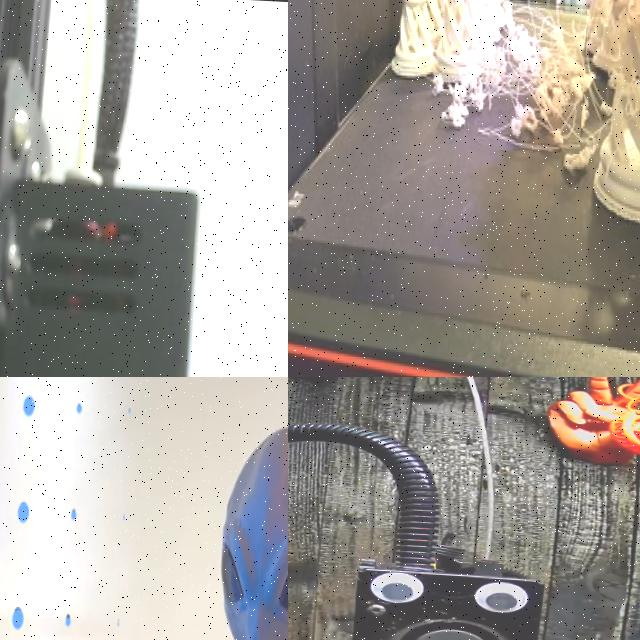spaghetti: (478, 0, 587, 154), (597, 56, 640, 118), (437, 106, 468, 138), (444, 72, 466, 100), (428, 74, 449, 96), (470, 86, 486, 114)
